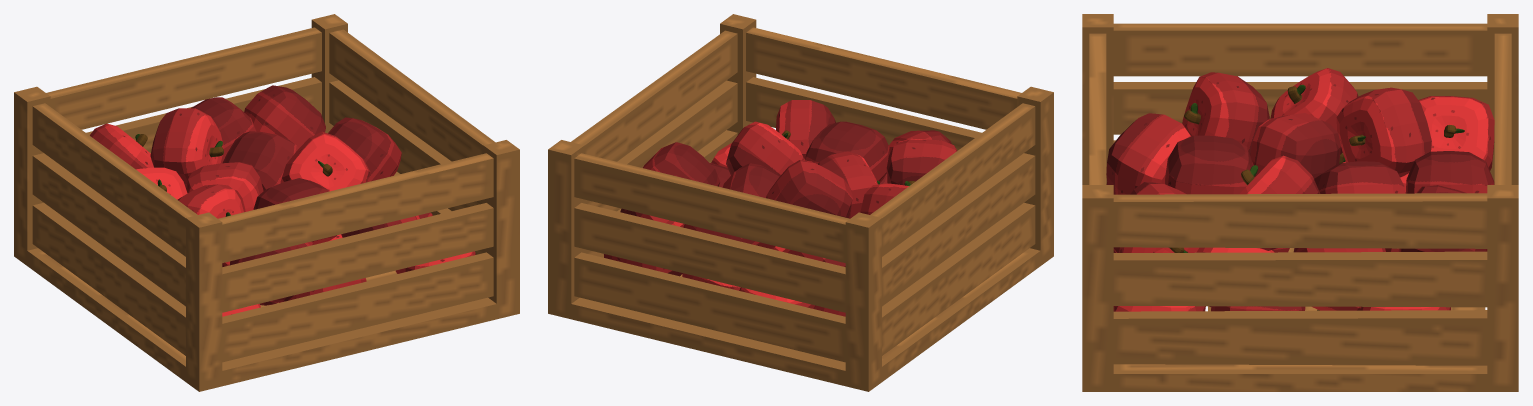
The model's file is caja manzanas (1).fbx.
The picture shows the model from 3 angles, left to right: view 1: azimuth 30°, elevation 25°; view 2: azimuth 150°, elevation 25°; view 3: azimuth 270°, elevation 25°; orthographic projection. The views are drawn at different scales.
Parts seen in each view (by area): view 1: Cube, Cube.016, Cube.023, Cube.026, Cube.019, Cube.006, Cube.007, Cube.003, Cube.015, Cube.018, Cube.020, Cube.013 (+1 smaller); view 2: Cube, Cube.016, Cube.020, Cube.023, Cube.018, Cube.002, Cube.006, Cube.007, Cube.019, Cube.013, Cube.017; view 3: Cube, Cube.016, Cube.018, Cube.020, Cube.017, Cube.007, Cube.015, Cube.013, Cube.003, Cube.019, Cube.023, Cube.002 (+4 smaller).
Part boxes in pixels (box(x1,y1,x2,y2)): Cube: box(14, 14, 519, 391); Cube.016: box(150, 108, 223, 188); Cube.023: box(280, 131, 370, 191); Cube.026: box(244, 85, 325, 147); Cube.019: box(222, 131, 298, 190); Cube.006: box(328, 117, 401, 181); Cube.007: box(186, 162, 263, 212); Cube.003: box(191, 97, 256, 163); Cube.015: box(90, 123, 153, 169); Cube.018: box(177, 184, 243, 218); Cube.020: box(253, 178, 336, 244); Cube.013: box(136, 167, 187, 199); Cube: box(548, 14, 1053, 391); Cube.016: box(766, 160, 852, 217); Cube.020: box(805, 121, 889, 182); Cube.023: box(726, 121, 804, 175); Cube.018: box(886, 138, 957, 185); Cube.002: box(776, 100, 835, 159); Cube.006: box(643, 142, 720, 186); Cube.007: box(818, 151, 879, 218); Cube.019: box(722, 163, 779, 248); Cube.013: box(860, 181, 914, 214); Cube.017: box(889, 130, 951, 153); Cube: box(1082, 14, 1518, 391); Cube.016: box(1336, 87, 1431, 177); Cube.018: box(1182, 72, 1269, 155); Cube.020: box(1165, 135, 1254, 194); Cube.017: box(1106, 113, 1190, 194); Cube.007: box(1250, 113, 1340, 178); Cube.015: box(1418, 96, 1494, 170); Cube.013: box(1270, 68, 1358, 154); Cube.003: box(1405, 151, 1494, 193); Cube.019: box(1314, 161, 1405, 193); Cube.023: box(1239, 155, 1320, 250); Cube.002: box(1113, 182, 1204, 252).
Bounding box in the file's own units: 47.74 × 23.35 × 47.74.
28 materials, 28 textured.
